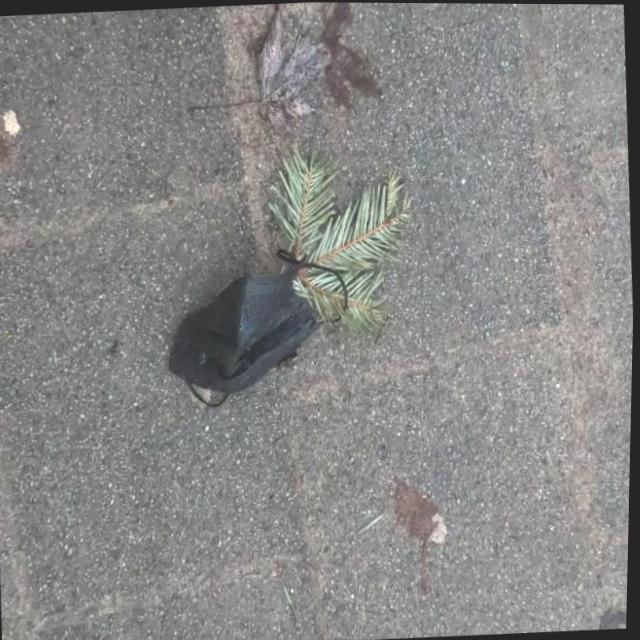Mask: (163, 243, 357, 413)
